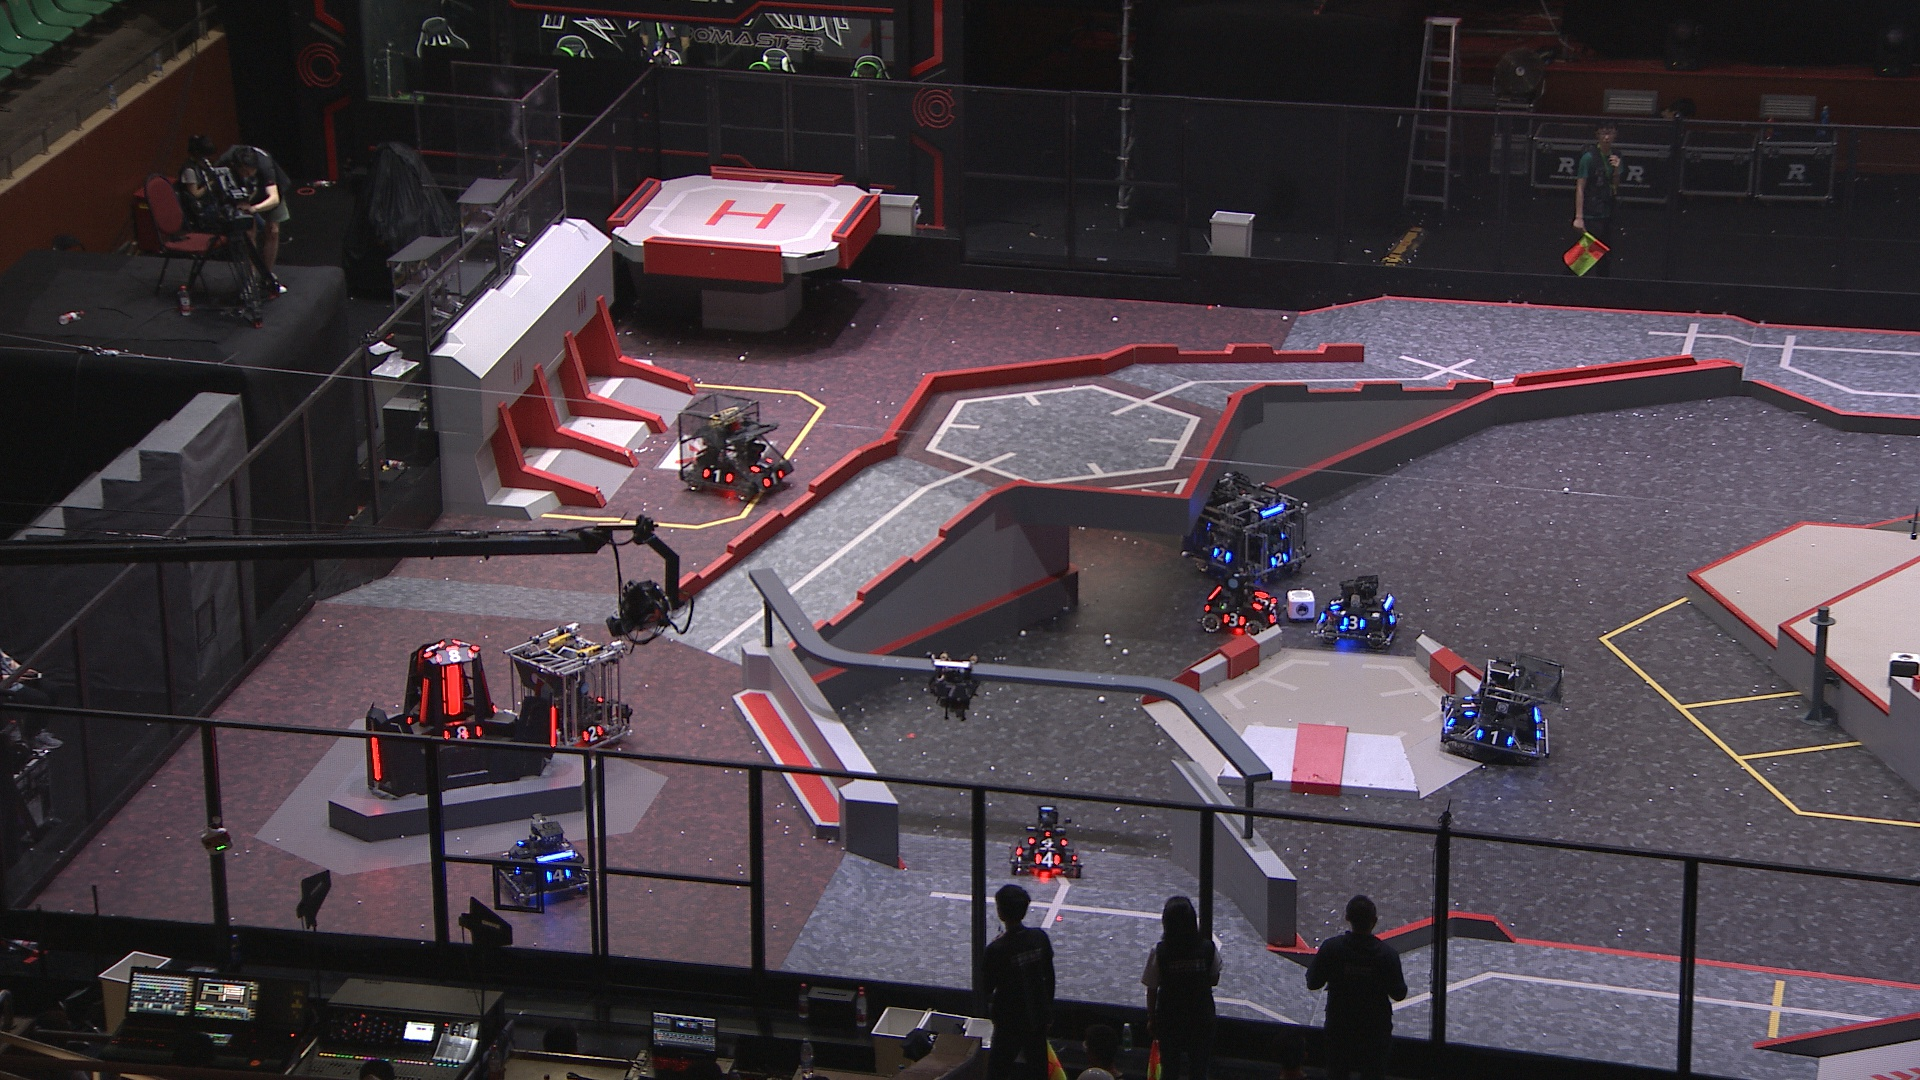armor: (438, 665, 462, 713), (440, 727, 485, 744), (1476, 727, 1513, 746), (436, 647, 476, 665), (1033, 851, 1064, 869), (1026, 836, 1068, 849), (542, 866, 572, 884), (549, 705, 560, 749), (371, 733, 381, 782), (702, 467, 732, 483), (1340, 615, 1366, 632), (764, 467, 785, 488), (1220, 612, 1247, 628), (578, 725, 603, 742), (936, 684, 968, 698), (1250, 591, 1271, 611), (419, 679, 429, 723), (1327, 595, 1346, 615), (1461, 694, 1477, 717), (1211, 546, 1234, 562), (422, 642, 442, 659), (749, 458, 771, 472), (1269, 551, 1290, 566), (1443, 707, 1457, 727), (1263, 607, 1280, 622), (1387, 608, 1399, 626)
base: (365, 638, 564, 803)
car: (502, 622, 636, 756), (1183, 465, 1311, 588), (1437, 654, 1565, 766), (674, 392, 796, 501), (496, 815, 589, 905), (1309, 575, 1404, 650), (1006, 803, 1087, 880), (1197, 570, 1282, 638)
watcher: (928, 654, 982, 721)
